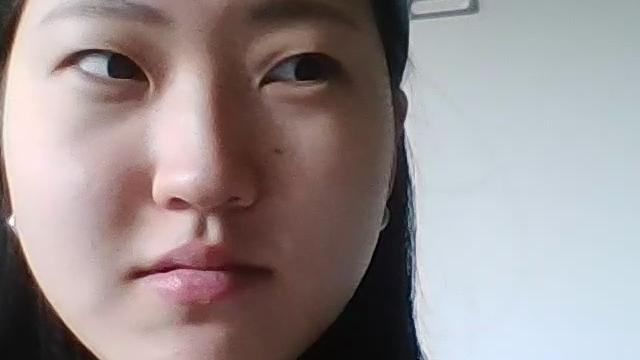eye: (109, 53, 141, 79), (297, 55, 327, 81)
iris: (74, 49, 149, 79), (268, 52, 338, 82)
